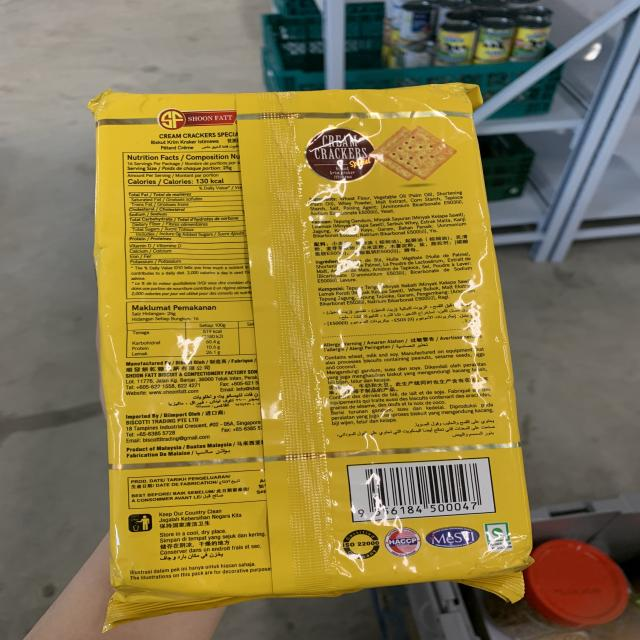object_name: (94, 95, 531, 592)
